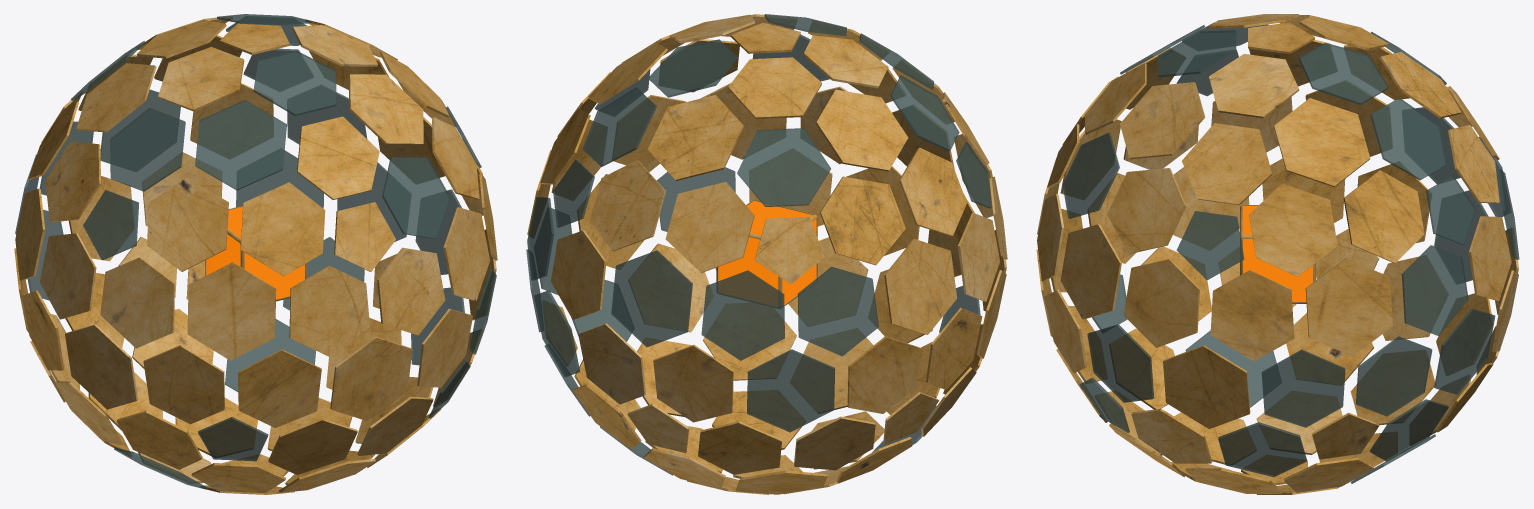
File: orbii.glb
The picture shows the model from 3 angles, left to right: view 1: azimuth 30°, elevation 25°; view 2: azimuth 150°, elevation 25°; view 3: azimuth 270°, elevation 25°; orthographic projection.
Parts seen in each view (by area): view 1: GD_mesh, Cube; view 2: GD_mesh, Cube; view 3: GD_mesh, Cube.
Boxes of the visible parts, <box> form: GD_mesh: <box>14,14,497,494</box>; Cube: <box>205,206,306,301</box>; GD_mesh: <box>526,14,1007,494</box>; Cube: <box>716,200,817,308</box>; GD_mesh: <box>1036,14,1519,494</box>; Cube: <box>1240,205,1315,303</box>.
Bounding box in the file's own units: 1.27 × 1.27 × 1.28.
3 materials, 1 textured.
